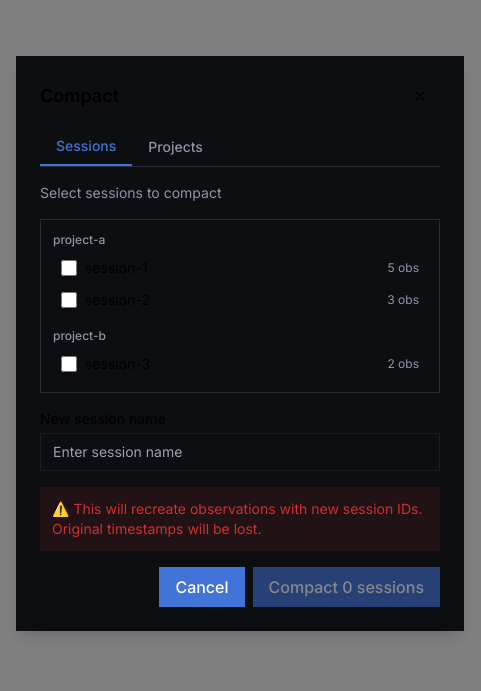
Test: CompactModal › checkbox selection - Sessions › should handle multiple session selection
Step 1. Click the checkbox labelled "session-1 5 obs" → (69, 268), box x1=61 y1=260 x2=77 y2=276
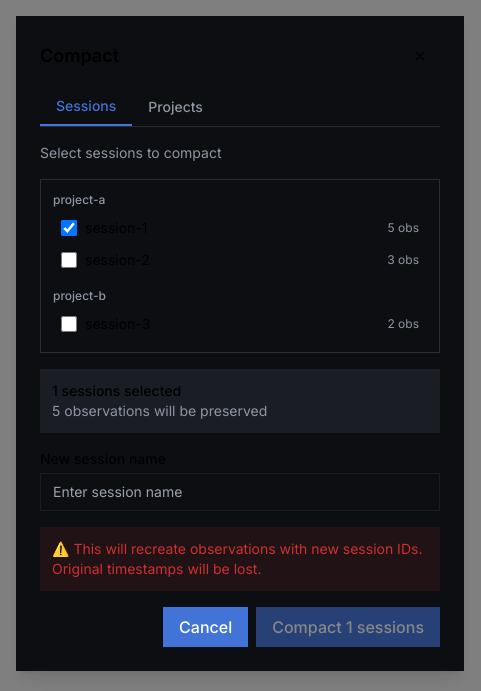
Step 2. Click the checkbox labelled "session-2 3 obs" → (69, 260), box x1=61 y1=252 x2=77 y2=268
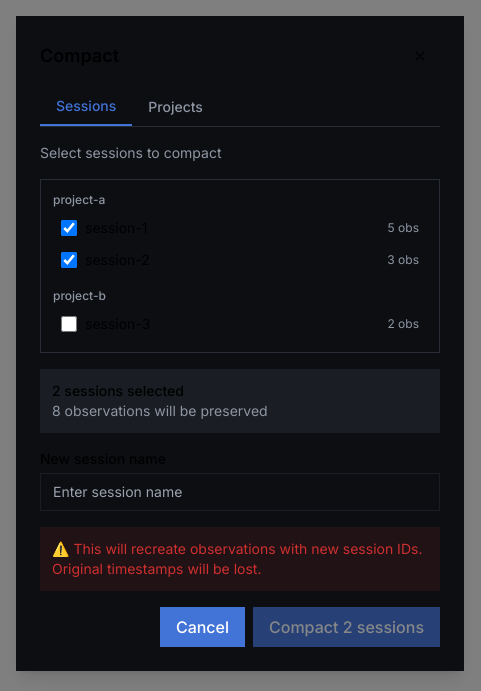
Now the text "2 sessions selected" is shown, box x1=52 y1=382 x2=184 y2=398
